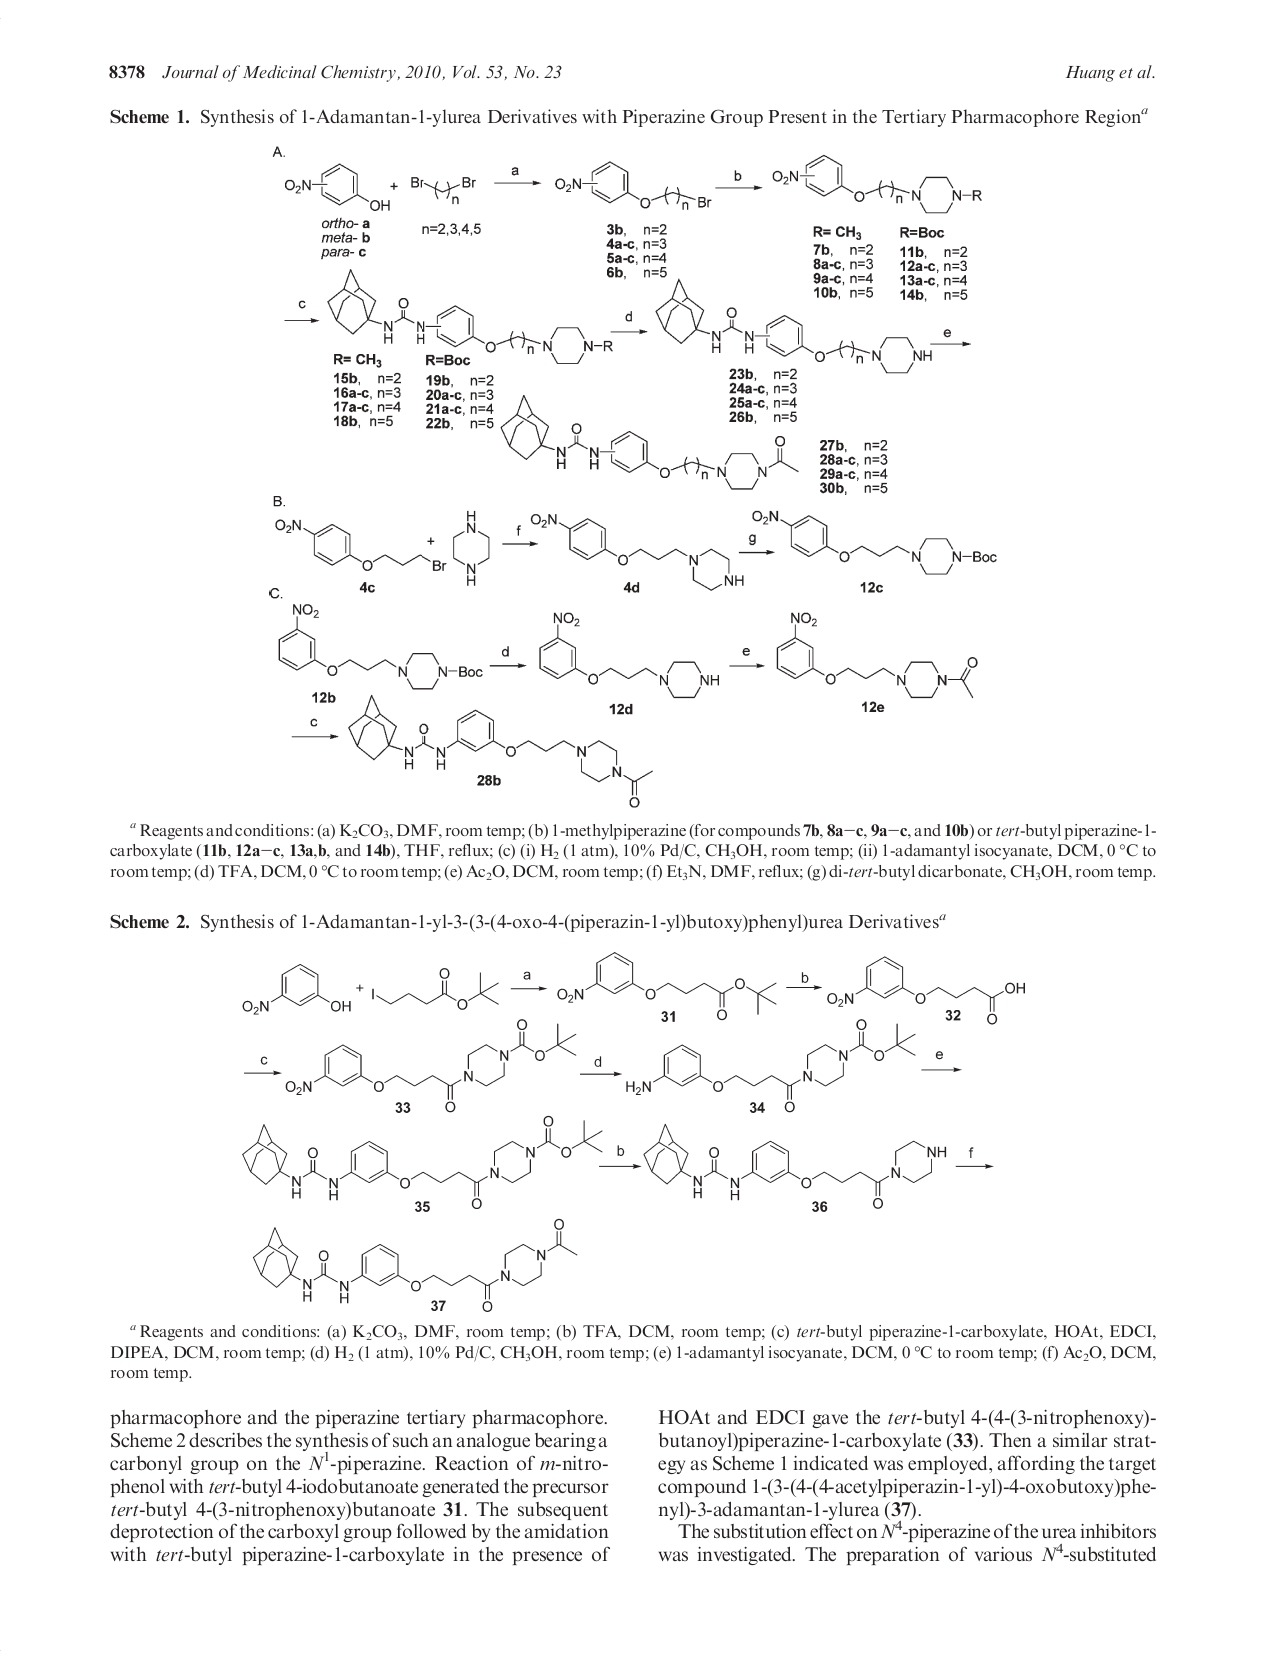exist_molecular: (344, 693, 656, 810), (239, 1113, 605, 1212), (251, 1217, 578, 1314), (497, 392, 801, 489), (327, 267, 614, 367), (285, 1017, 577, 1112), (625, 1017, 918, 1112), (656, 277, 934, 375), (644, 1122, 949, 1209), (774, 610, 979, 702), (277, 601, 481, 692), (528, 509, 746, 592), (750, 507, 997, 576), (536, 609, 722, 701), (556, 948, 779, 1021), (824, 955, 1027, 1025), (773, 152, 985, 215), (270, 515, 449, 575), (555, 160, 713, 211), (282, 161, 392, 215), (368, 965, 501, 1011), (241, 960, 352, 1013), (452, 509, 491, 586), (407, 173, 477, 206)
